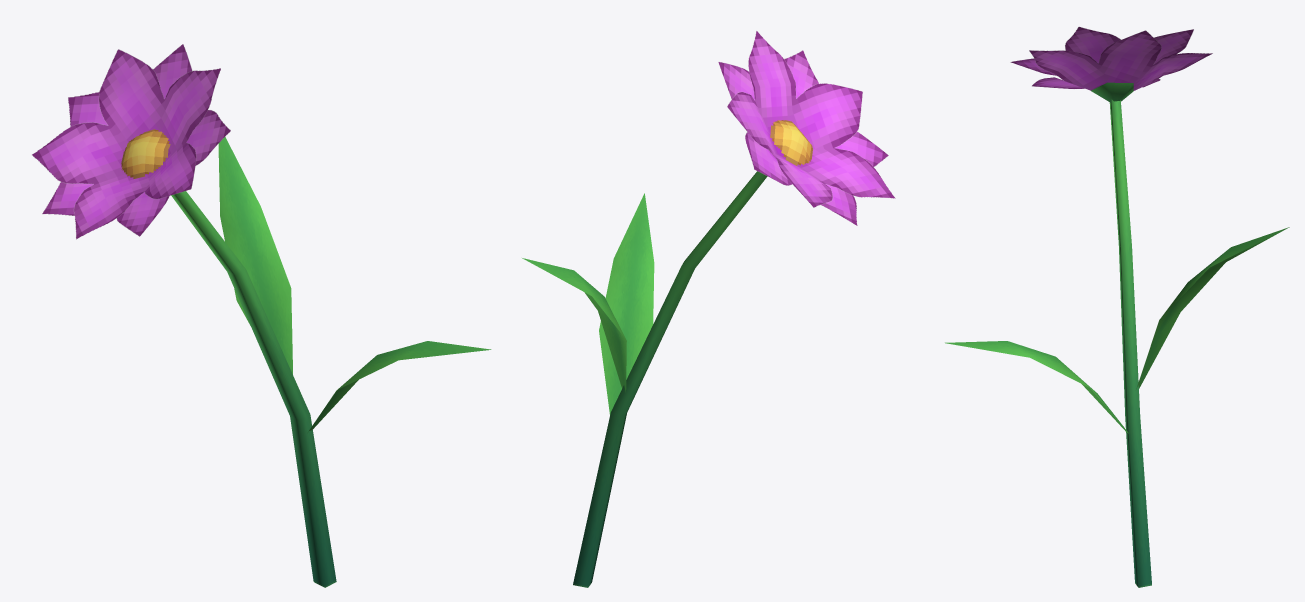
Rendered from Flower_Violet_3.glb.
The picture shows the model from 3 angles, left to right: view 1: azimuth 30°, elevation 25°; view 2: azimuth 150°, elevation 25°; view 3: azimuth 270°, elevation 25°; orthographic projection. The views are drawn at different scales.
Parts seen in each view (by area): view 1: Cone.098, Cube.085, object6.077, Cone.099, object6.072, Cone.097; view 2: Cone.098, Cube.085, object6.072, Cone.099, object6.077, Cone.097; view 3: Cube.085, Cone.099, object6.077, Cone.098, object6.072, Cone.100.
Boxes of the visible parts, x1,y1,x2,y2 form: Cone.098: (32,49,220,239); Cube.085: (171,191,336,587); object6.077: (218,137,292,374); Cone.099: (42,44,230,236); object6.072: (308,341,491,431); Cone.097: (121,129,170,178); Cone.098: (727,31,895,207); Cube.085: (573,171,767,587); object6.072: (599,193,654,414); Cone.099: (718,50,888,225); object6.077: (522,258,626,392); Cone.097: (770,120,812,165); Cube.085: (1109,99,1151,587); Cone.099: (1029,30,1212,90); object6.077: (1136,227,1289,389); Cone.098: (1010,26,1193,75); object6.072: (945,341,1128,433); Cone.100: (1091,82,1133,102).
Size of the model in its own units: 0.4664 by 0.7431 by 0.4528.
Materials: 4 (4 with a texture image).
